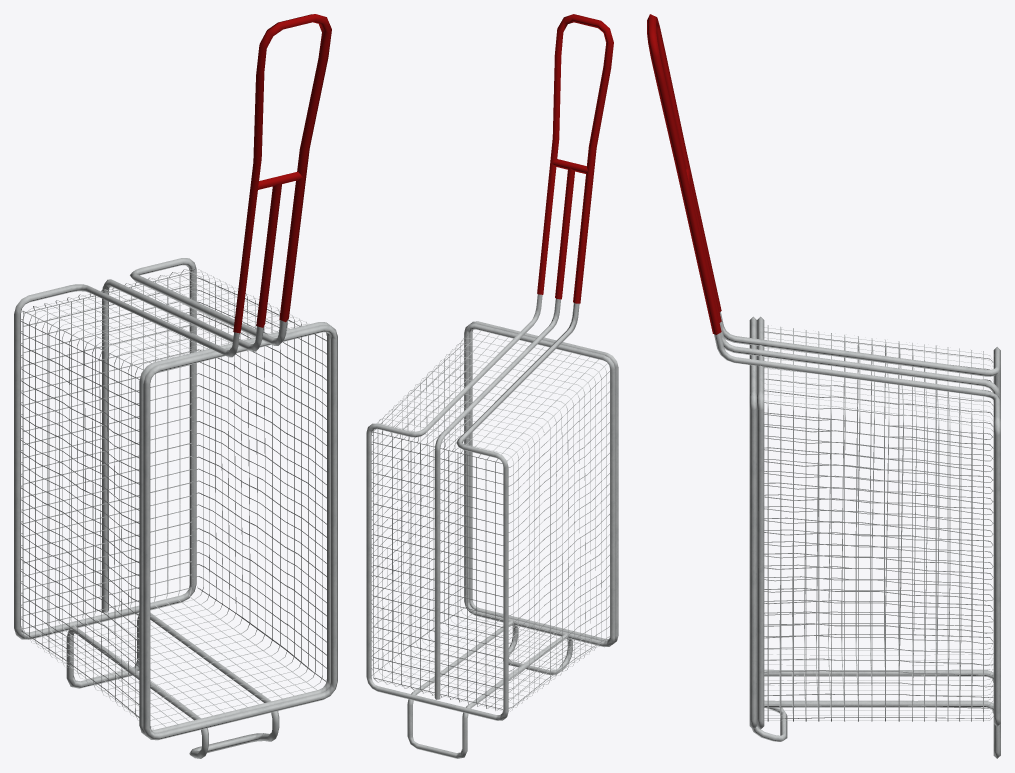
File: FryBasket.obj
The picture shows the model from 3 angles, left to right: view 1: azimuth 30°, elevation 25°; view 2: azimuth 150°, elevation 25°; view 3: azimuth 270°, elevation 25°; orthographic projection. The views are drawn at different scales.
Visible parts, largest first — view 1: Cube.003_Body_Gen_red_0; view 2: Cube.003_Body_Gen_red_0; view 3: Cube.003_Body_Gen_red_0.
Part boxes in pixels (x1,y1,x2,y2): Cube.003_Body_Gen_red_0: [14, 14, 337, 758]; Cube.003_Body_Gen_red_0: [366, 14, 618, 758]; Cube.003_Body_Gen_red_0: [647, 14, 1000, 758].
Size of the model in its own units: 3.37 by 13.34 by 5.89.
Materials: 3 (2 with a texture image).
